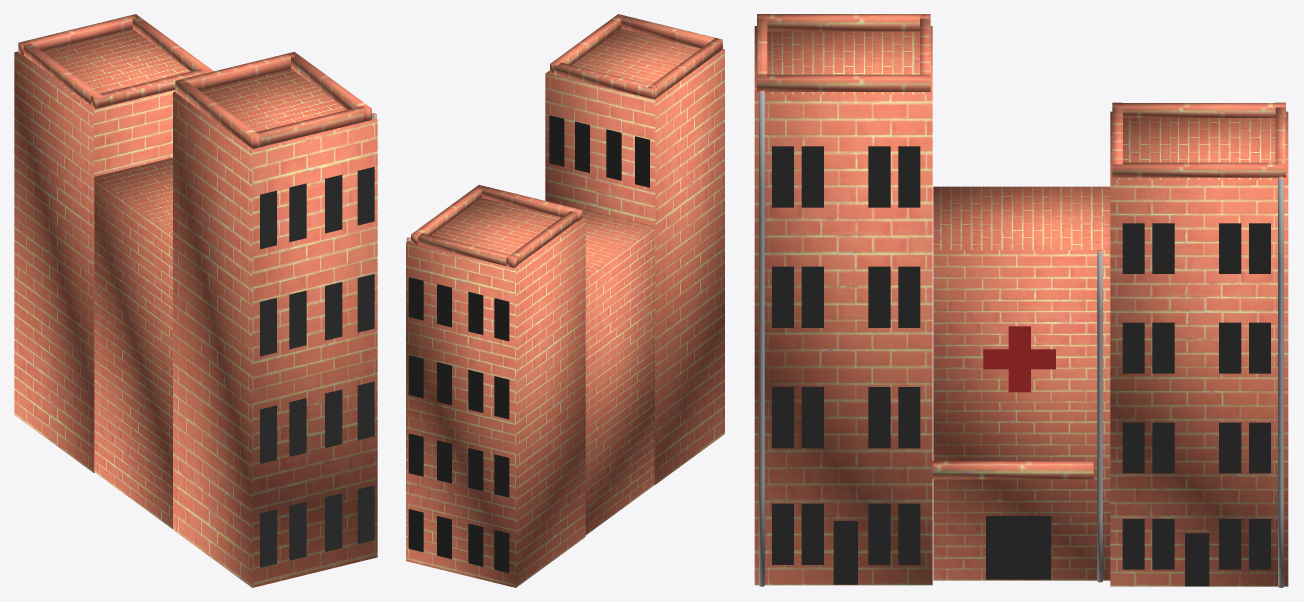
The model's file is building4.obj.
The picture shows the model from 3 angles, left to right: view 1: azimuth 30°, elevation 25°; view 2: azimuth 150°, elevation 25°; view 3: azimuth 270°, elevation 25°; orthographic projection. The views are drawn at different scales.
Visible parts, largest first — view 1: Box001, Box008, Box006, Box005, Box004, Box003, Box010, Box007, Box009, Box012, Box011, Plane044 (+15 smaller); view 2: Box008, Box001, Box006, Box004, Box005, Box010, Box003, Box009, Box007, Box012, Box011, Plane031 (+19 smaller); view 3: Box001, Box008, Box006, Plane050, Box007, Box002, Cylinder001, Box003, Box011, Cylinder003, Box012, Cylinder002 (+36 smaller).
Boxes of the visible parts, x1,y1,x2,y2 form: Box001: (173,68,377,587); Box008: (14,29,190,472); Box006: (94,157,172,528); Box005: (251,106,367,146); Box004: (177,53,294,90); Box003: (175,79,260,148); Box010: (18,15,135,55); Box007: (287,52,371,121); Box009: (91,69,209,108); Box012: (19,41,103,104); Box011: (128,14,213,72); Plane044: (289,290,306,349); Box008: (406,198,585,587); Box001: (545,29,724,484); Box006: (552,201,654,535); Box004: (553,62,657,98); Box005: (618,15,715,48); Box010: (415,233,518,267); Box003: (648,38,722,99); Box009: (479,185,582,220); Box007: (550,14,622,74); Box012: (506,208,579,267); Box011: (411,185,481,244); Plane031: (606,129,621,180); Box001: (754,26,932,585); Box008: (1110,111,1288,586); Box006: (933,186,1110,580); Plane050: (986,516,1051,579); Box007: (757,74,930,91); Box002: (932,461,1093,479); Cylinder001: (759,90,764,586); Box003: (757,14,930,31); Box011: (1112,162,1285,177); Cylinder003: (1278,176,1283,587); Box012: (1112,103,1285,117); Cylinder002: (1097,250,1102,582).
Bounding box in the file's own units: 117 × 396 × 382.
